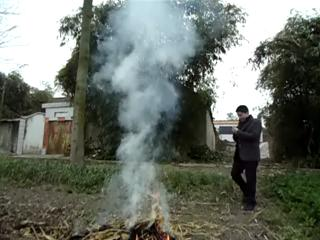smoke: (101, 2, 200, 216)
